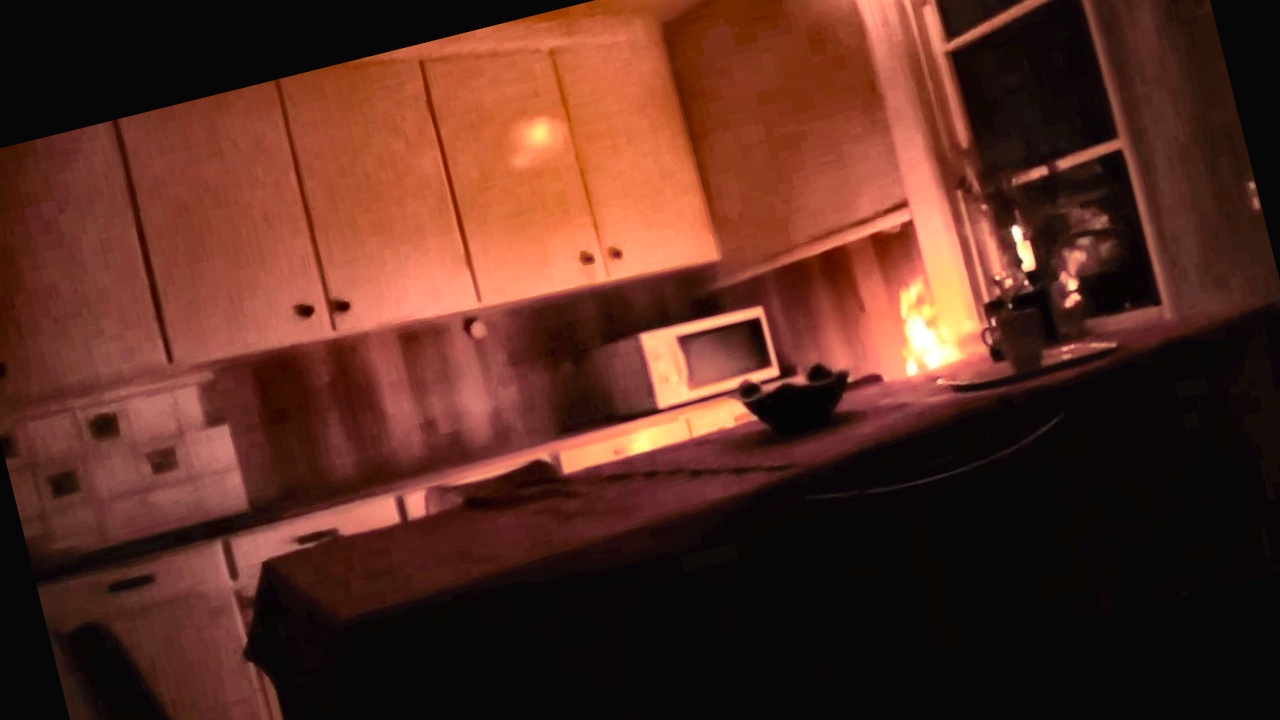fire: (828, 222, 1001, 429)
